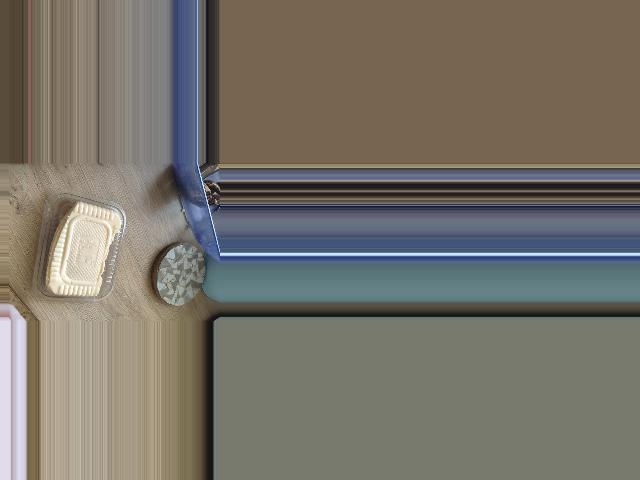cheese: (8, 202, 132, 316)
